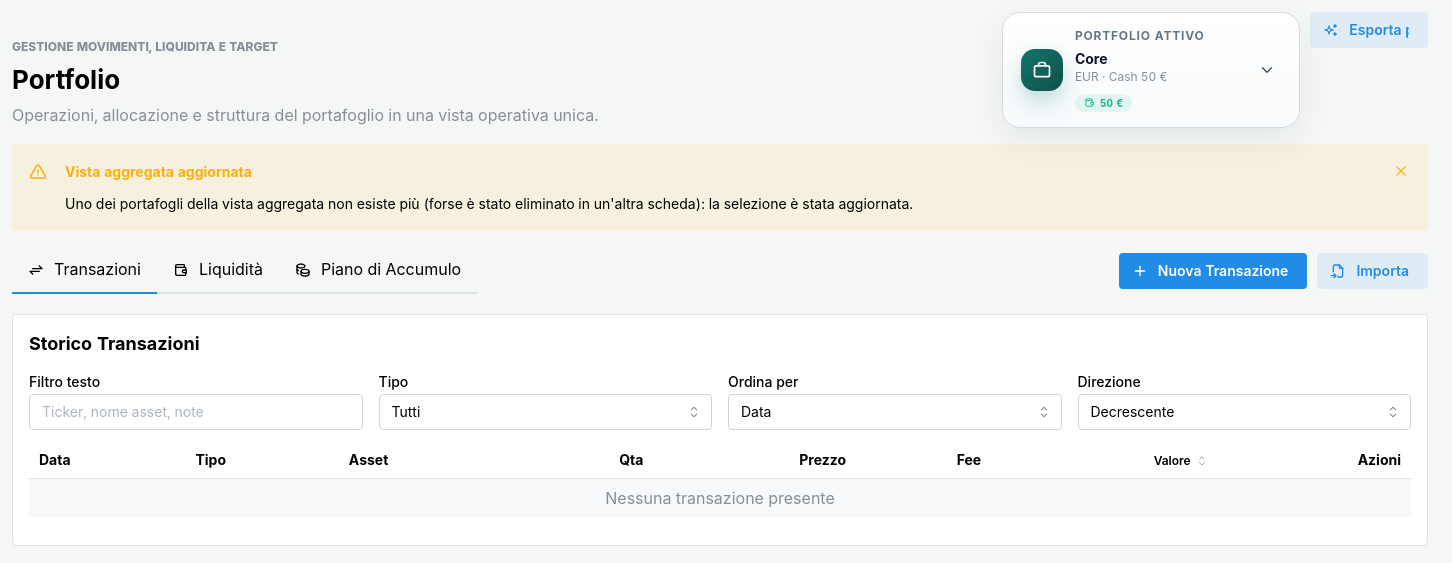
Test case: PortfolioPage in the aggregate view (read-only) › recovers to a single portfolio when one of the aggregate was deleted elsewhere
Expected: the text "non esiste più" is shown, top-left (65, 195), bottom-right (913, 212)
Expected: the text "Vista aggregata aggiornata" is shown, top-left (65, 161), bottom-right (252, 183)
What coordinates should you click on to do the following:
click the button named "Chiudi avviso"
I would click on:
 (1401, 171)
Its box is top-left (1391, 161), bottom-right (1411, 181).
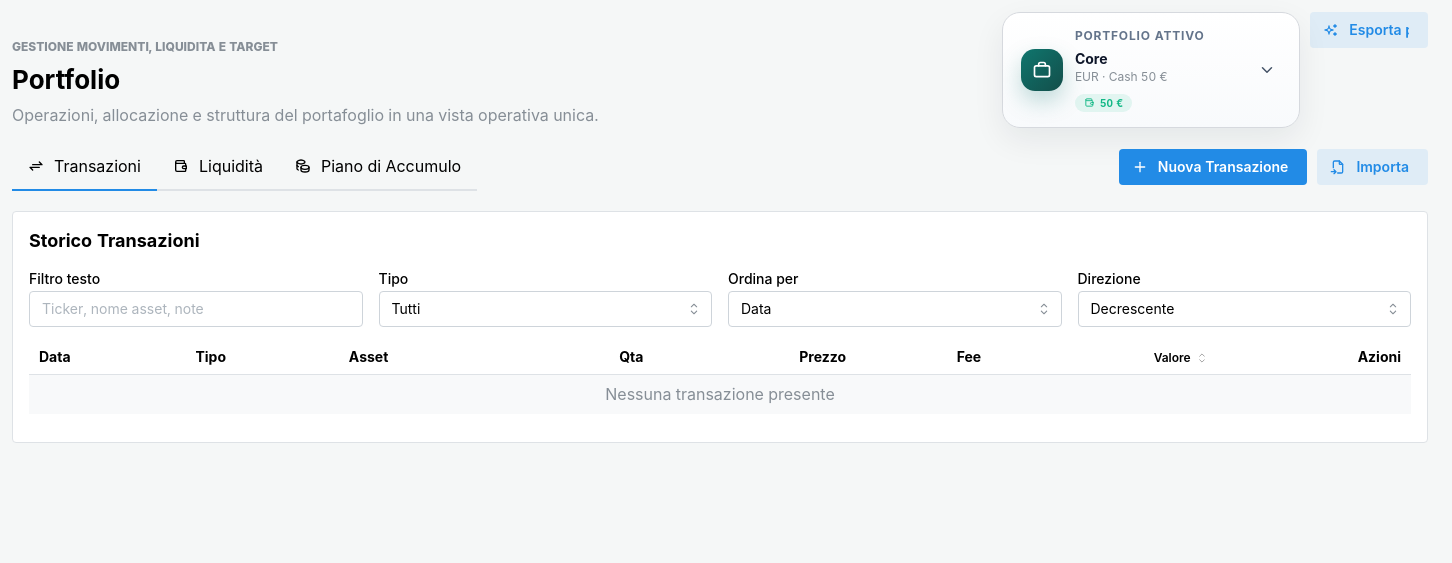
Expected: the text "Vista aggregata aggiornata" is gone
